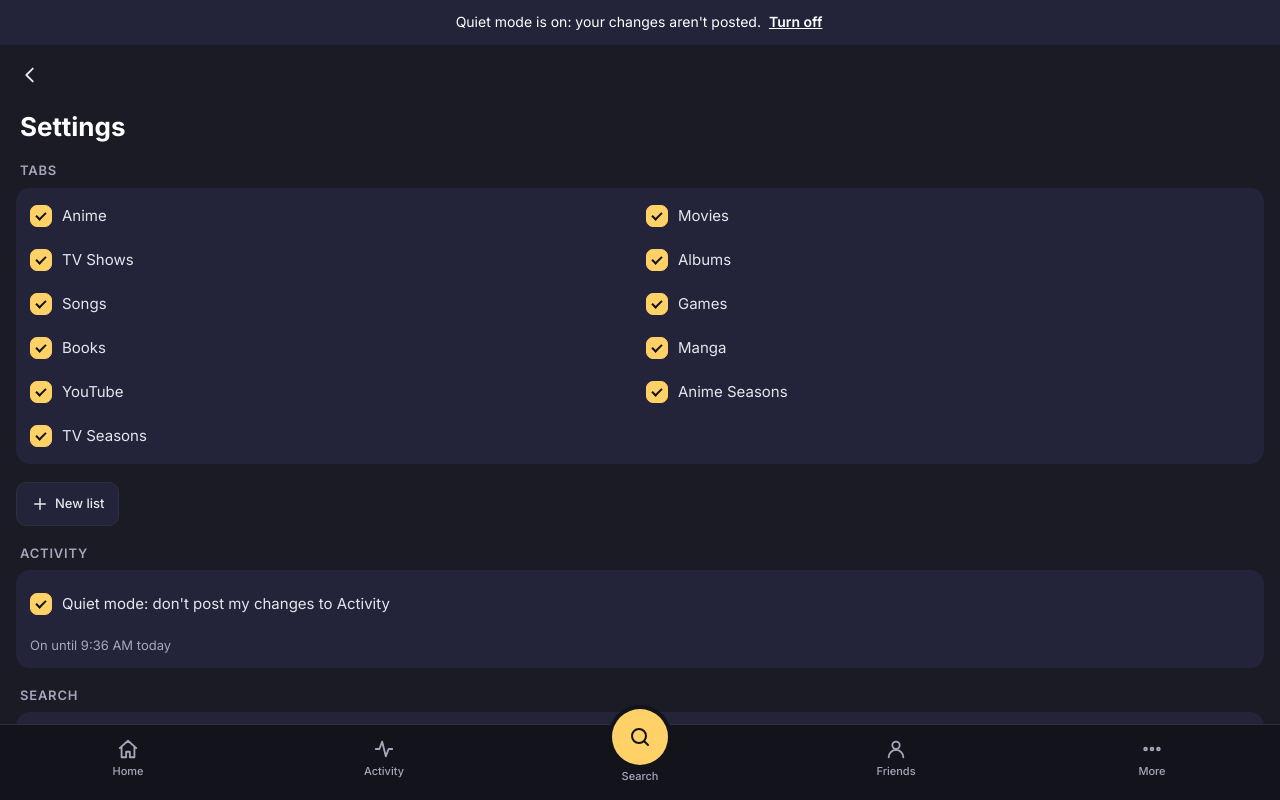
Scenario: Quiet mode switch (Settings) › shows the time while active and turning it off sends null
Expected: the text "On until 9:36 AM today" is shown, [30,637,171,653]
Click the switch labelled "Quiet mode: don't post my changes to Activity".
click(41, 604)  # box [30,593,52,615]
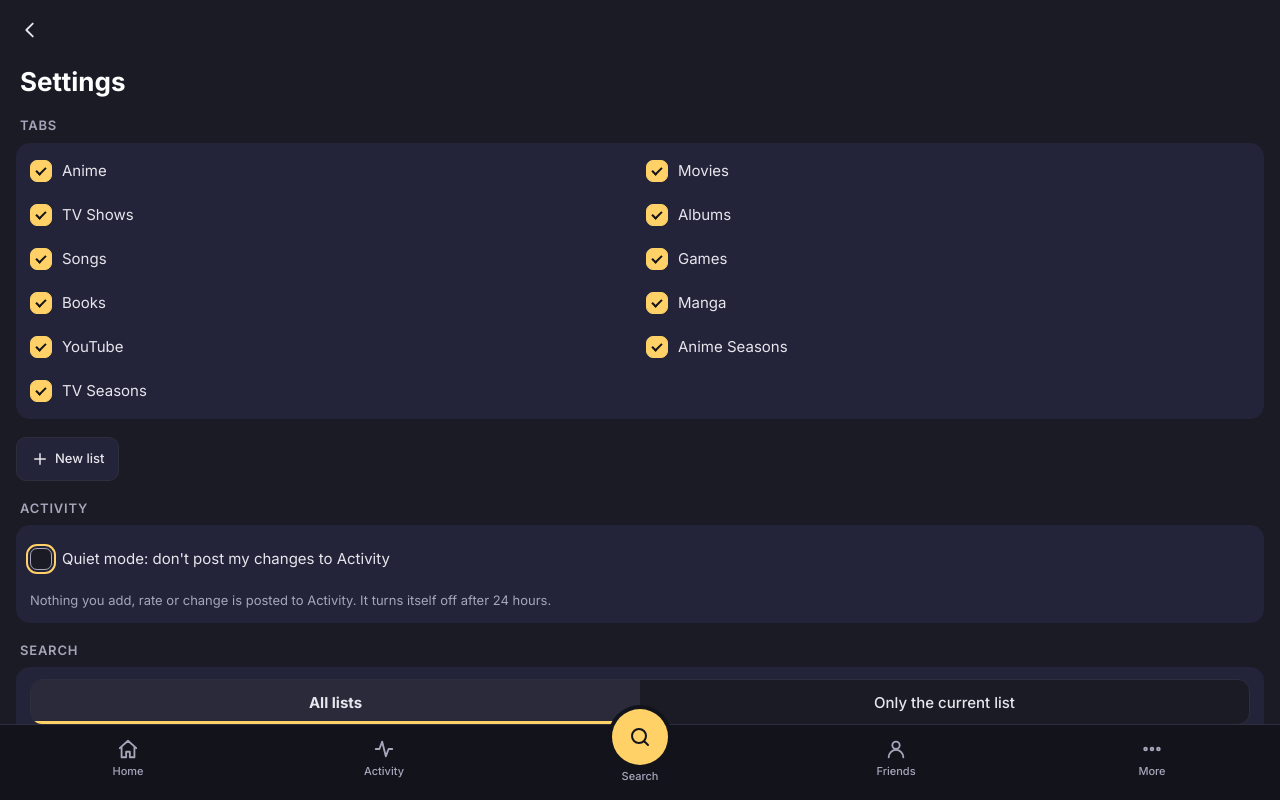
Now the text "On until " is gone
